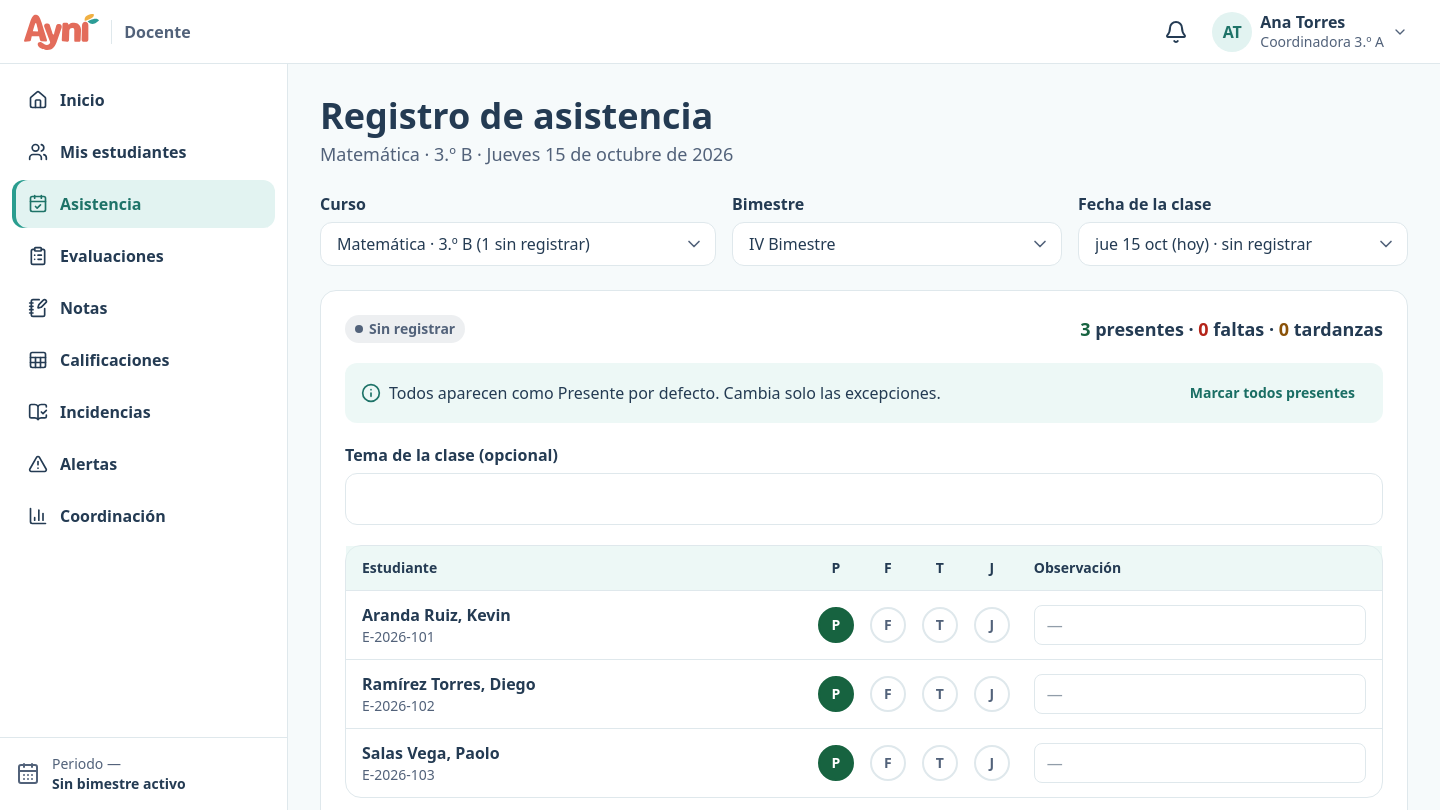
Scenario: Registro de asistencia del docente (RF-33, RF-37) › muestra a todos presentes, avisa la falta acumulada y exige el motivo de la justificación
Expected: the text "Matemática · 3.º B · Jueves 15 de octubre de 2026" is shown, 320,142 -> 733,166
Expected: the element named "Asistencia de Aranda Ruiz, Kevin" is shown, 810,607 -> 1018,643
Click the radio button labelled "F" in the row of "Ramírez Torres, Diego" at (888, 694), box 870,676 -> 906,712
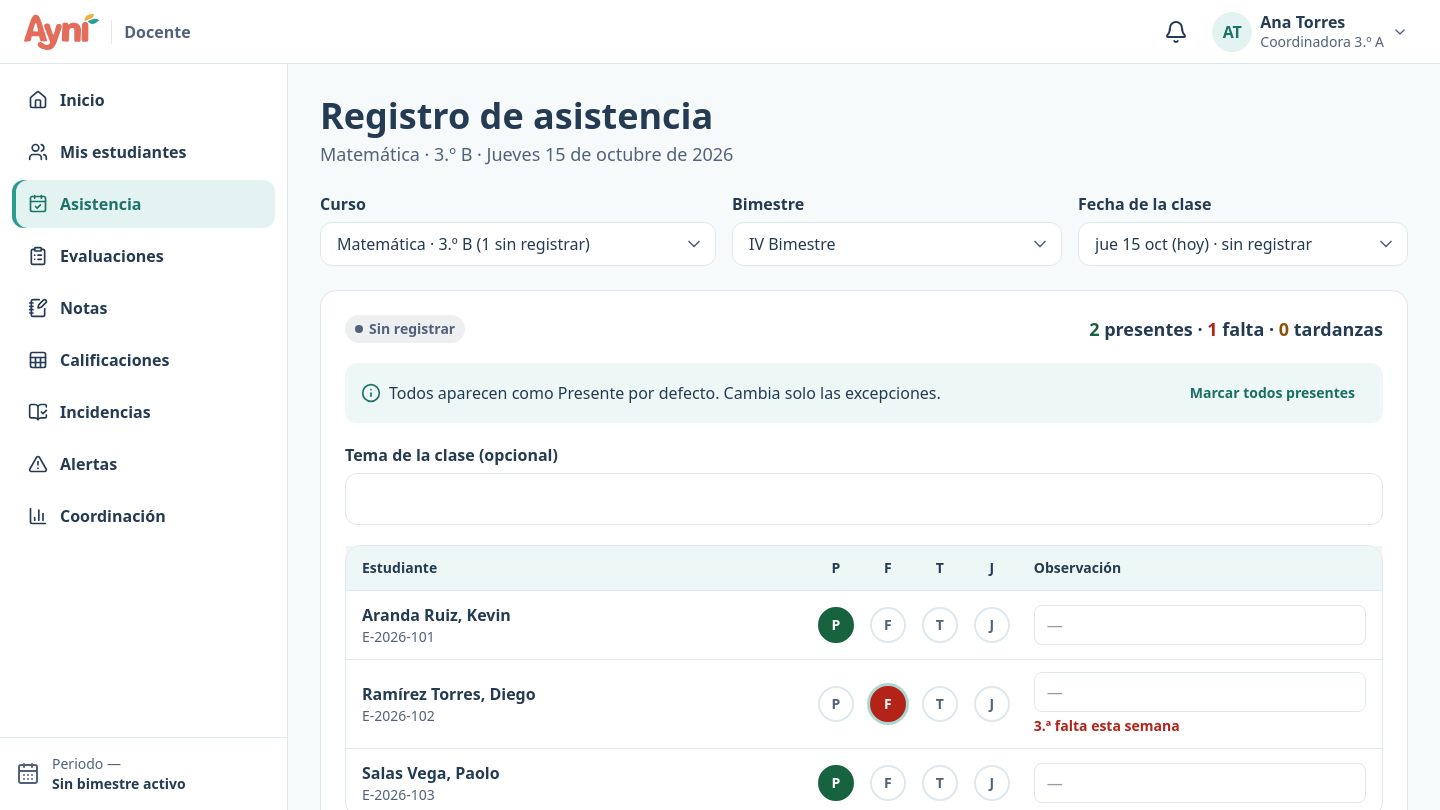
Now the text "3.ª falta esta semana" is shown, box 1034,716 -> 1180,735
Click the radio button labelled "J" in the row of "Salas Vega, Paolo" at (992, 783), box 974,765 -> 1010,801
(page scrolled)
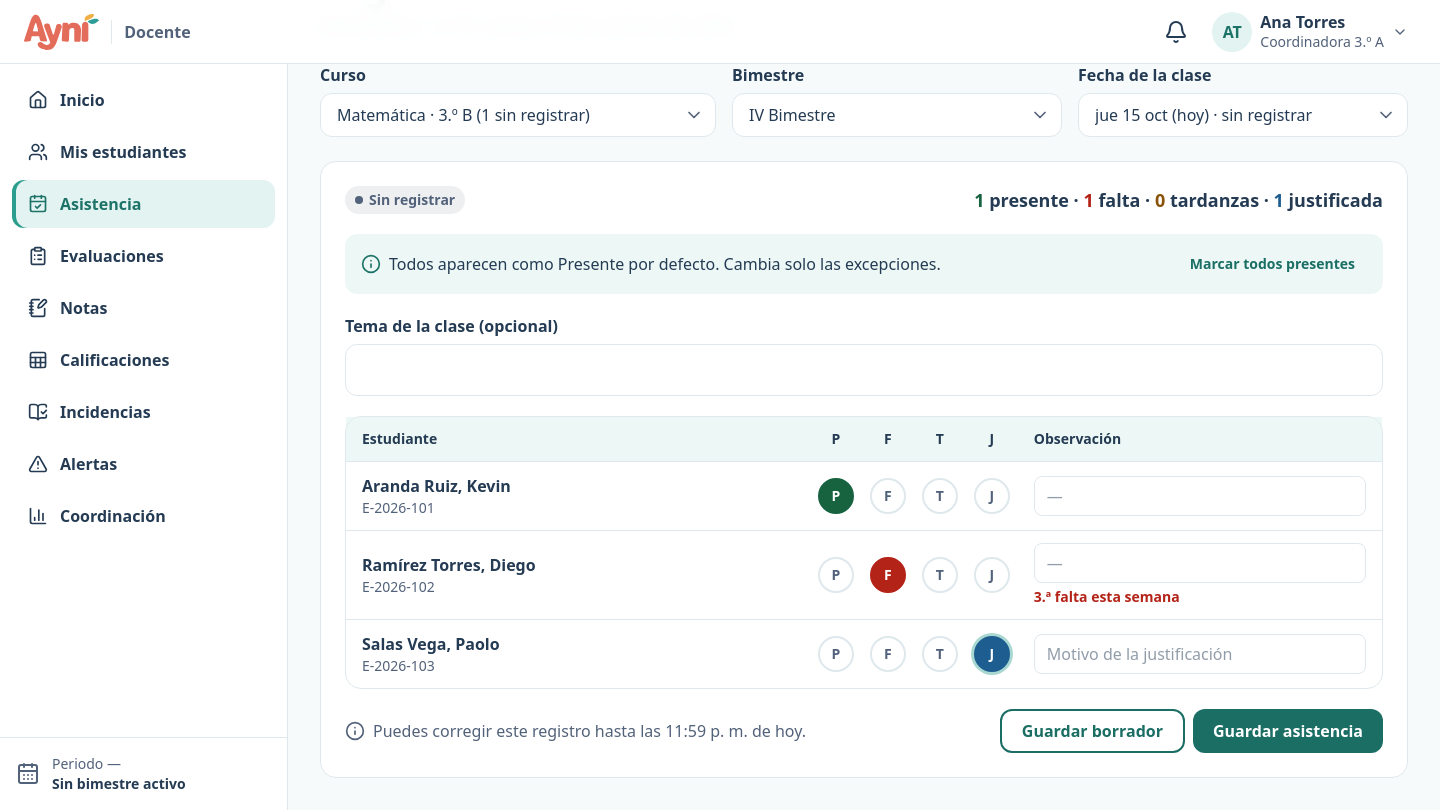
Now the element with test id "conteo-asistencia" reads "1 presente · 1 falta · 0 tardanzas · 1 justificada", box 974,186 -> 1383,214
Click the button "Guardar asistencia" at (1288, 731), box 1193,709 -> 1383,753
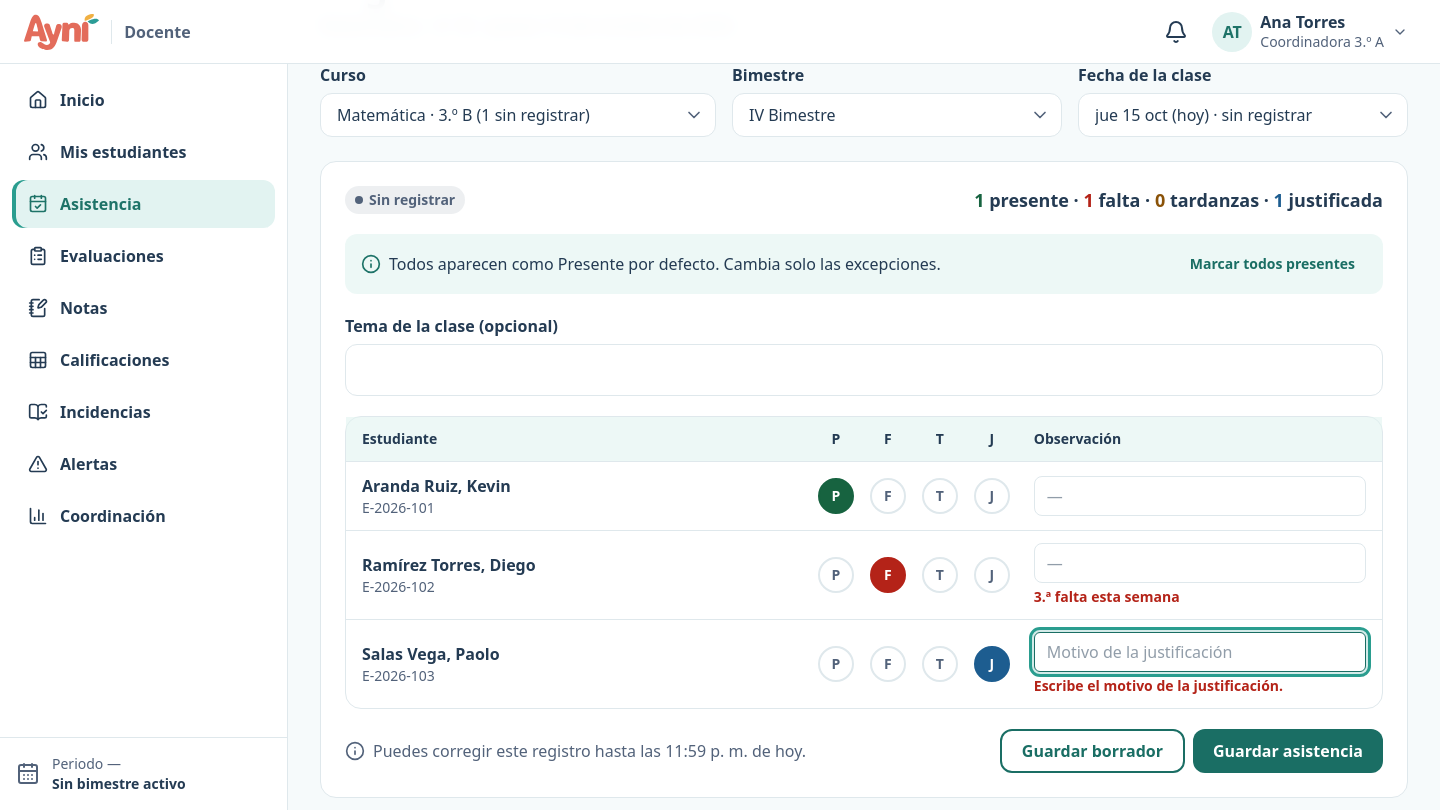
Now the text "Escribe el motivo de la justificación." is shown, box 1034,676 -> 1283,695
Type "  Cita   médica " into the field named "Observación de Salas Vega, Paolo" at (1200, 652), box 1034,632 -> 1366,672
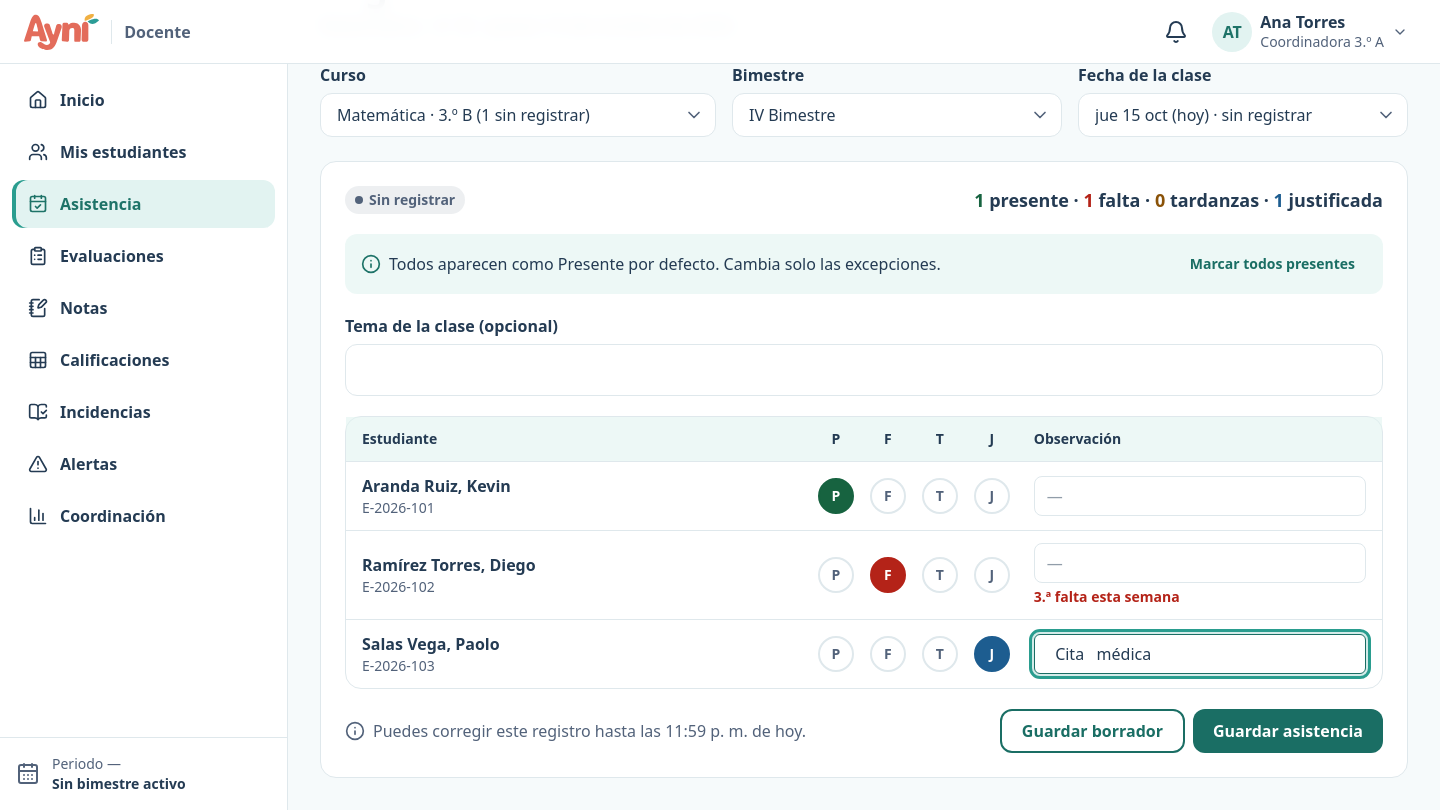
Click the button "Guardar asistencia" at (1288, 731), box 1193,709 -> 1383,753
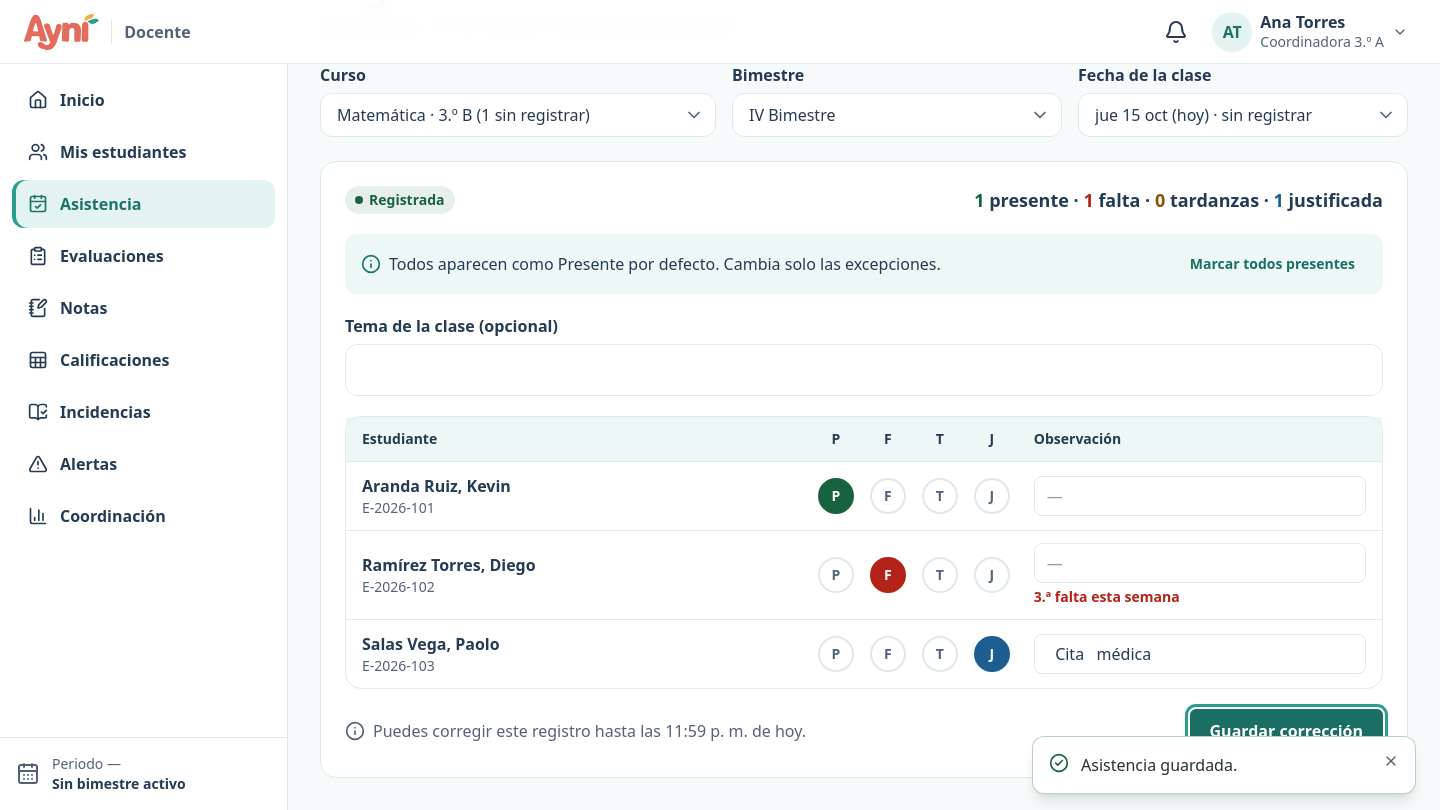
Now the text "Asistencia guardada." is shown, box 1081,754 -> 1237,776
